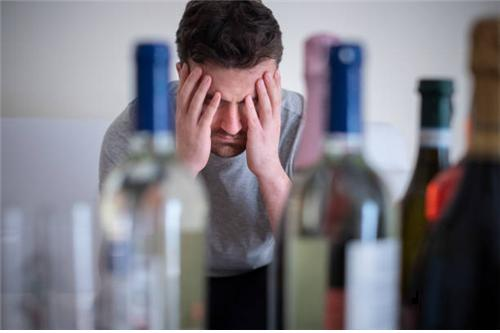alcohol: (99, 41, 209, 327), (281, 44, 390, 331), (435, 17, 499, 327), (402, 78, 459, 327), (286, 32, 340, 183)
